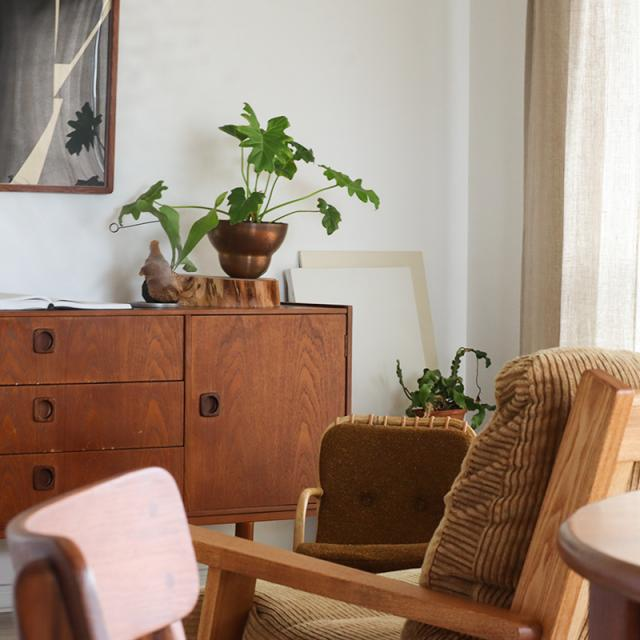vintage chair: (202, 328, 640, 640)
vintage shelf: (10, 295, 345, 508)
